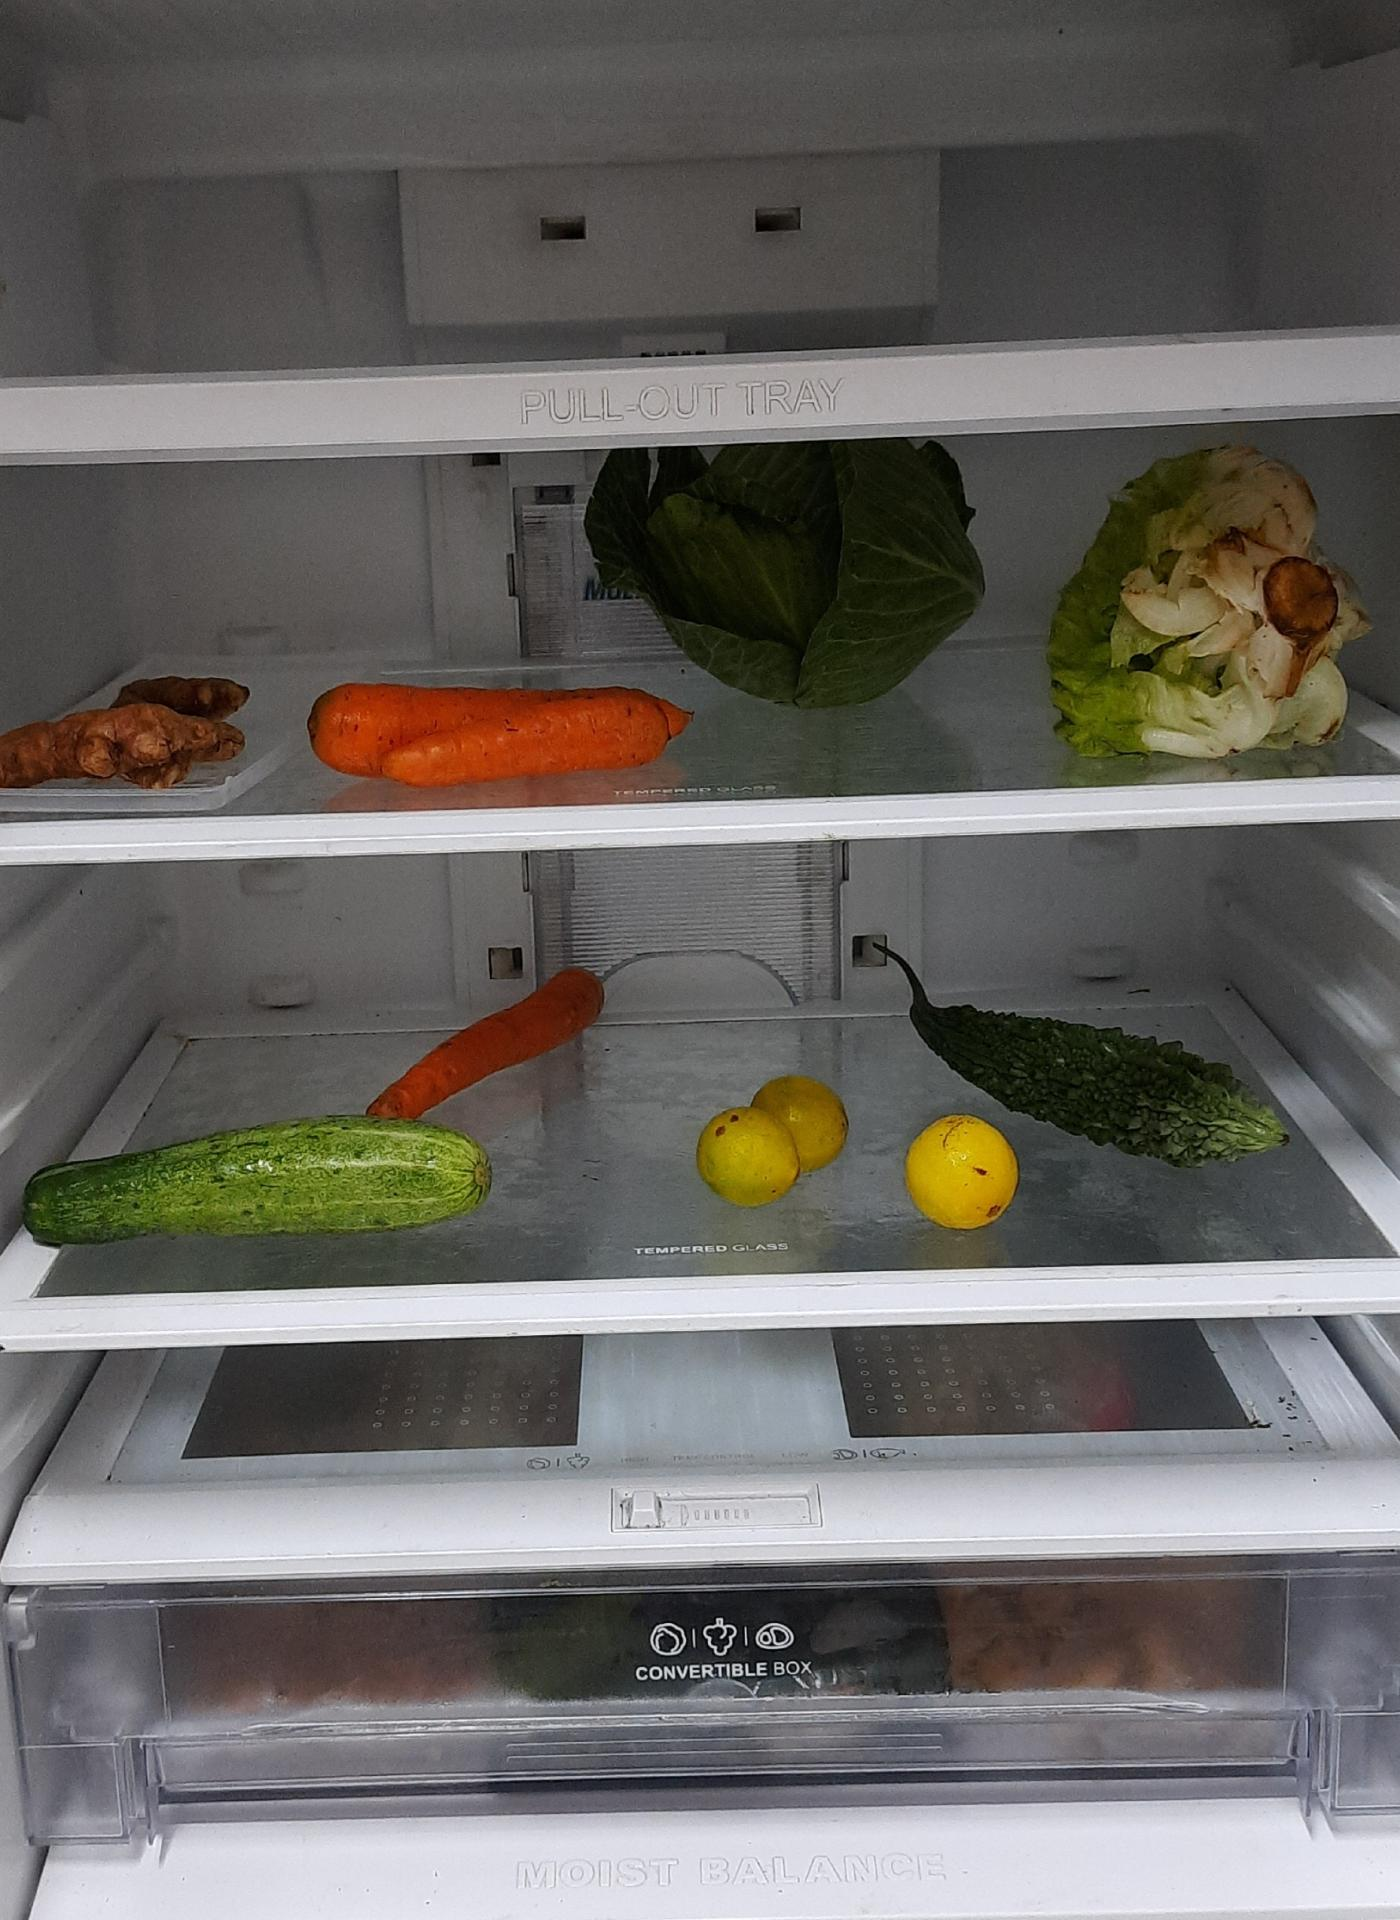bitter gourd: (896, 999, 1288, 1166)
cabbage: (586, 437, 988, 704)
carrots: (306, 669, 695, 780), (368, 975, 613, 1122)
cucumber: (21, 1122, 482, 1246)
ginger: (0, 665, 247, 781)
lemon: (698, 1069, 854, 1203), (905, 1112, 1024, 1228)
lettuce: (1051, 447, 1358, 763)
